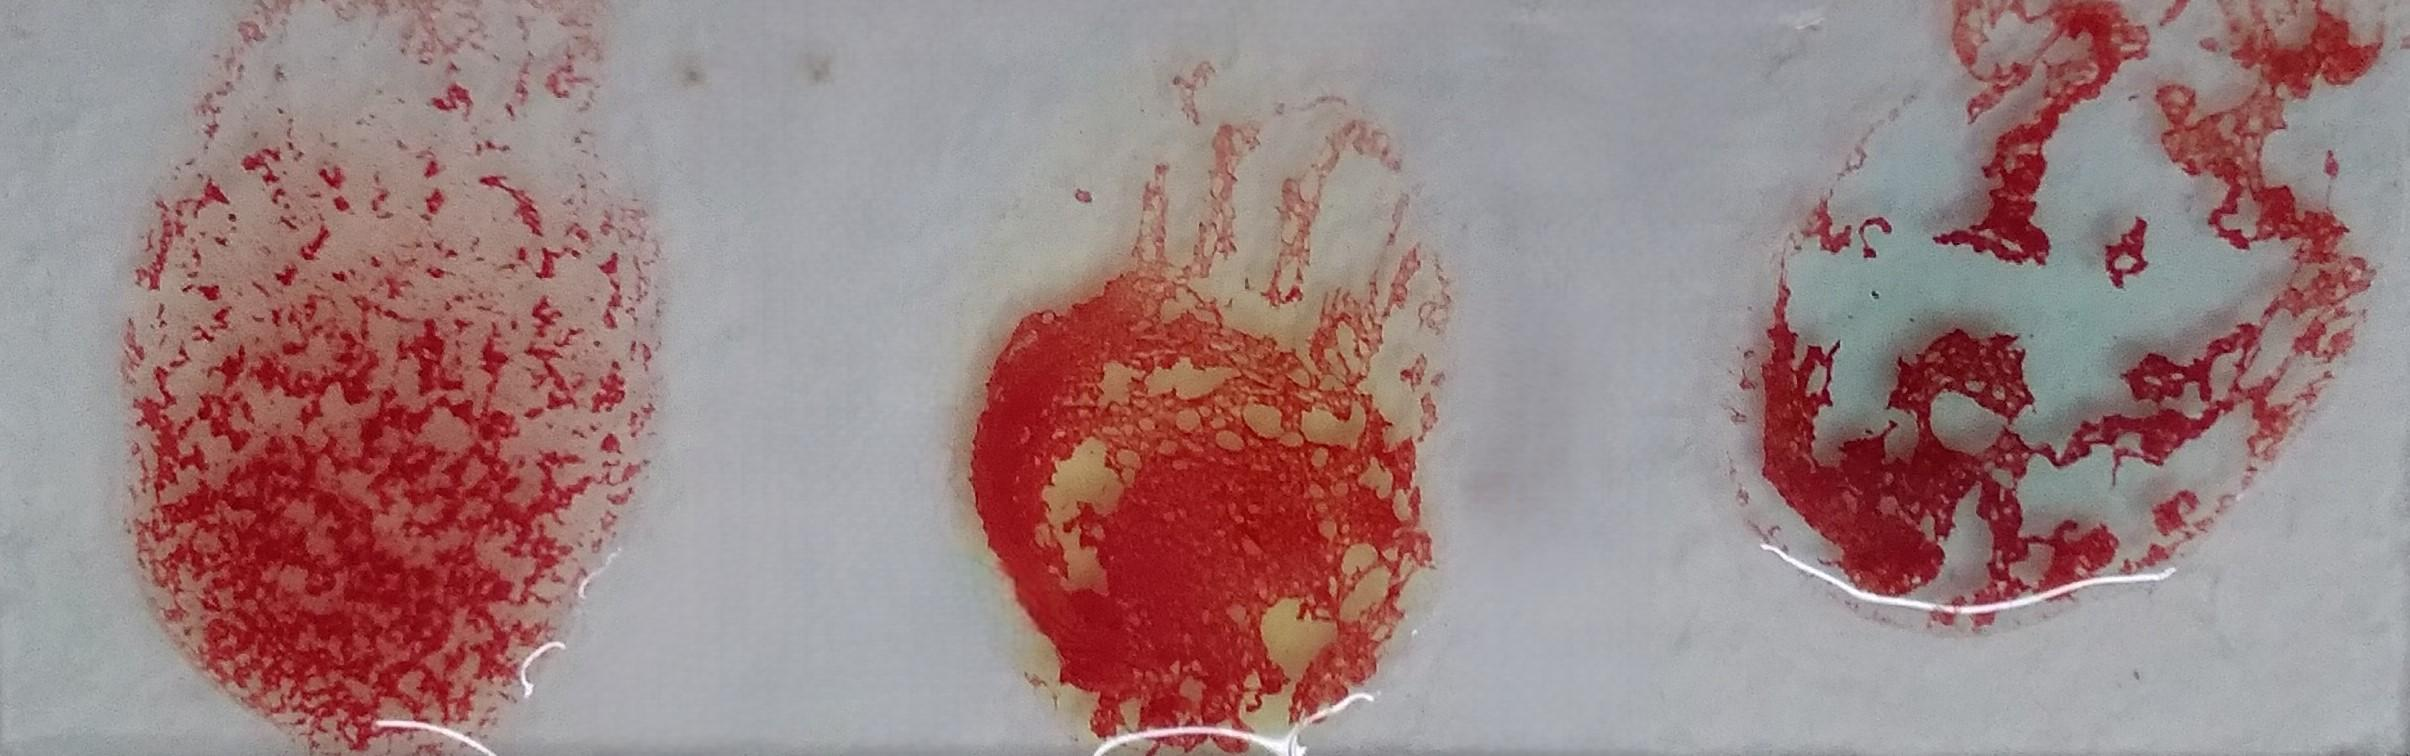A: (1794, 0, 2372, 627)
B: (990, 86, 1420, 747)
D: (146, 0, 616, 741)
